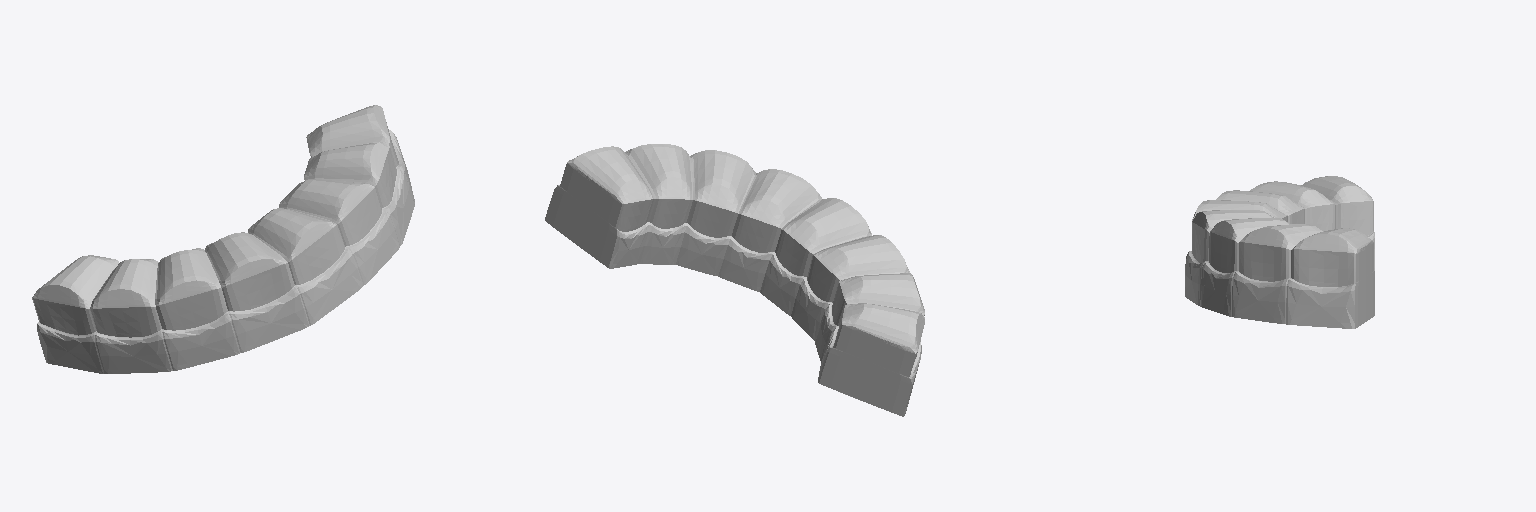
File: SubTool-17-16640025.OBJ
3 renders of one model, left to right at view 1: azimuth 30°, elevation 25°; view 2: azimuth 150°, elevation 25°; view 3: azimuth 270°, elevation 25°, orthographic.
Parts seen in each view (by area): view 1: Group16; view 2: Group16; view 3: Group16.
Part boxes in pixels (x1,y1,x2,y2): Group16: (32,105,414,373); Group16: (545,144,924,416); Group16: (1185,176,1374,328).
Size of the model in its own units: 7.58 by 3.56 by 3.36.